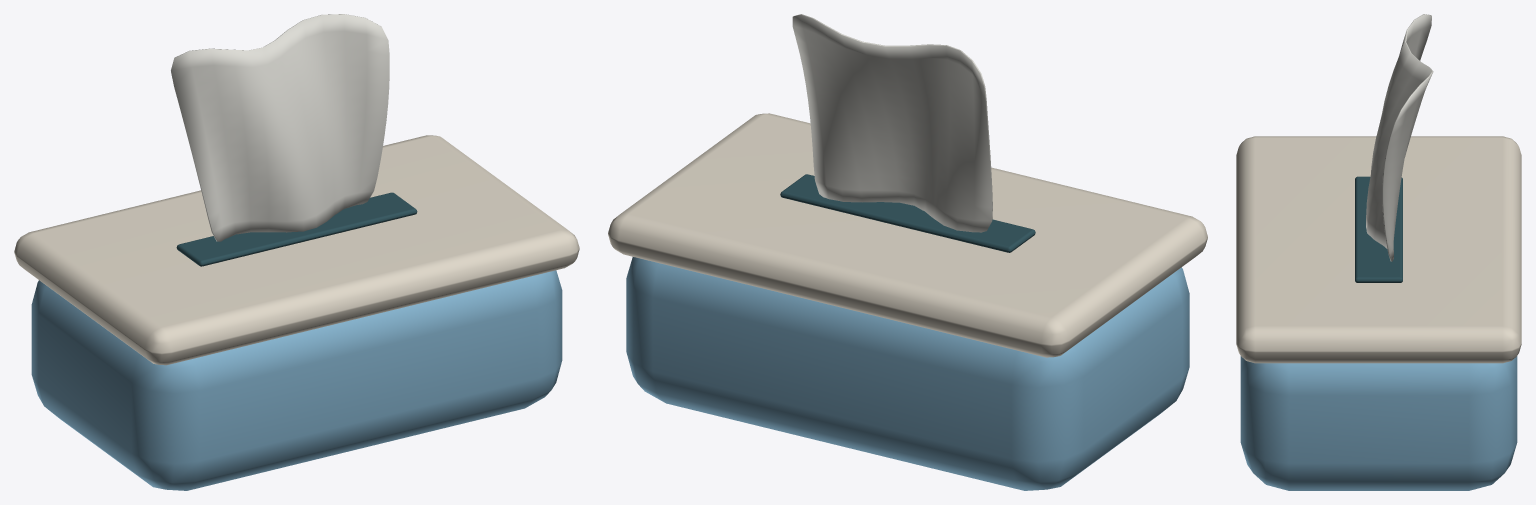
File: lm_tissue_box.glb
The picture shows the model from 3 angles, left to right: view 1: azimuth 30°, elevation 25°; view 2: azimuth 150°, elevation 25°; view 3: azimuth 270°, elevation 25°; orthographic projection. The views are drawn at different scales.
Visible parts, largest first — view 1: prop; view 2: prop; view 3: prop.
Boxes of the visible parts, x1=… form: prop: x1=14, y1=14, x2=579, y2=490; prop: x1=608, y1=14, x2=1207, y2=490; prop: x1=1236, y1=14, x2=1521, y2=490.
Bounding box in the file's own units: 0.22 × 0.1785 × 0.13.
